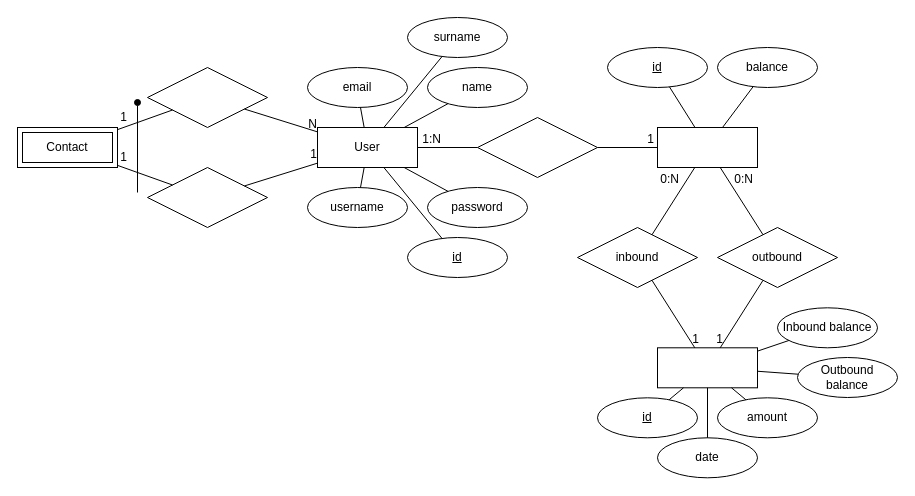
Some shapes in this 915 by 496 pixel diagram are drawn without their labels. Each missing label, with the centre of its shape:
"Account" belongs at (707,147).
"knows" belongs at (207,97).
"owner" belongs at (537,147).
"refers" belongs at (207,197).
"Transfer" belongs at (707,367).
